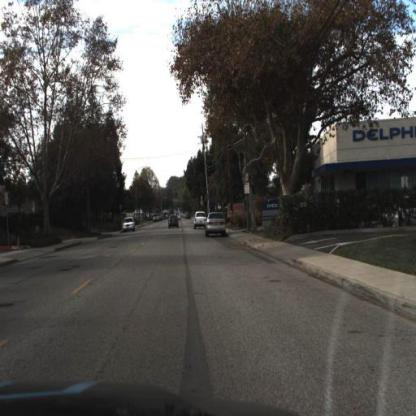car: (203, 210, 228, 239), (205, 211, 229, 238), (165, 212, 183, 235), (121, 213, 138, 236), (193, 210, 207, 233), (123, 216, 137, 234)
